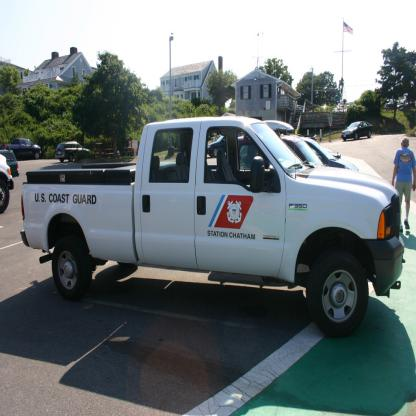Car: (54, 141, 91, 162), (341, 121, 373, 141), (1, 149, 20, 177)
Truck: (20, 116, 405, 338)
